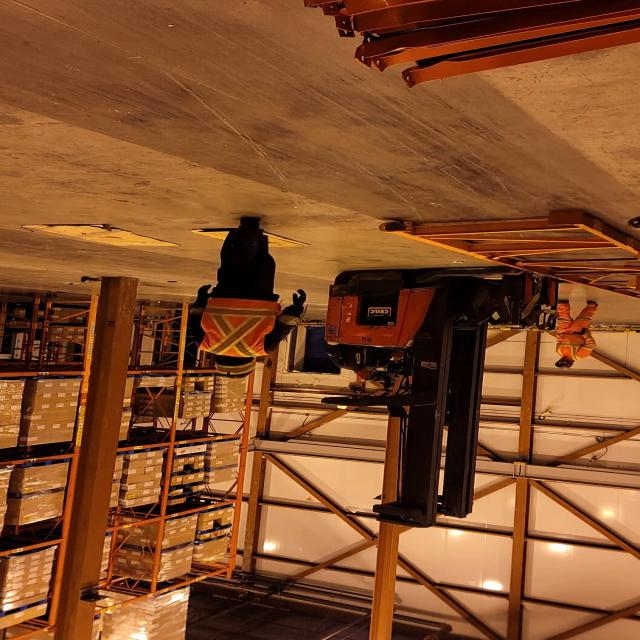forklift: (323, 265, 592, 519)
human: (192, 214, 309, 382), (536, 300, 607, 370), (317, 338, 404, 387)
objectofinterest: (377, 213, 640, 303), (16, 220, 184, 250), (184, 228, 311, 250)
